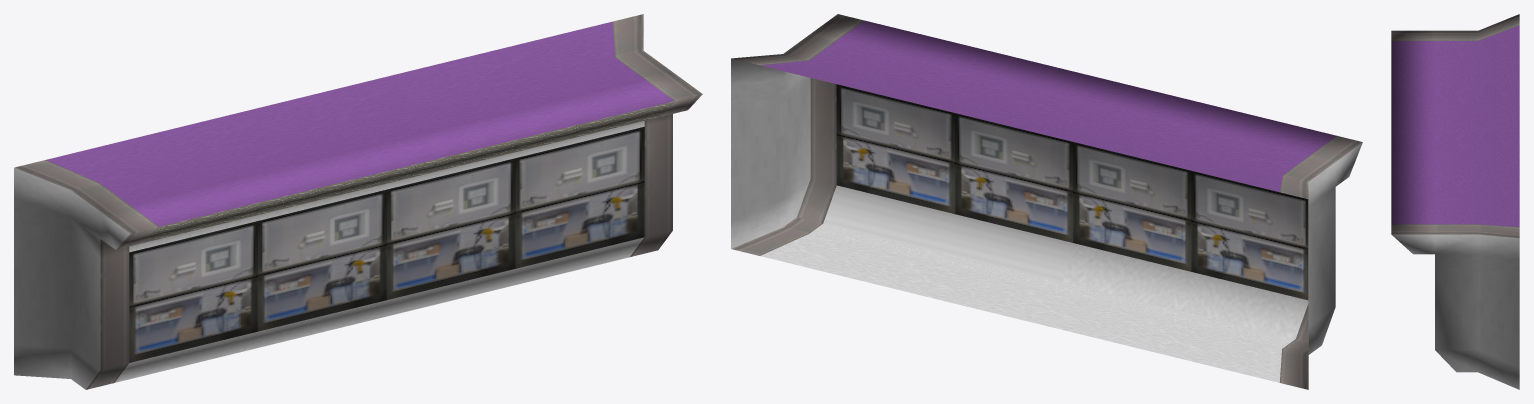
The model's file is HangarWindow.fbx.
3 renders of one model, left to right at view 1: azimuth 30°, elevation 25°; view 2: azimuth 150°, elevation 25°; view 3: azimuth 270°, elevation 25°, orthographic. The views are drawn at different scales.
Parts seen in each view (by area): view 1: WindowCabin; view 2: WindowCabin; view 3: WindowCabin.
Part boxes in pixels (x1=…): WindowCabin: x1=14, y1=14, x2=702, y2=389; WindowCabin: x1=731, y1=14, x2=1362, y2=389; WindowCabin: x1=1391, y1=14, x2=1519, y2=389.
Size of the model in its own units: 2442 by 770 by 590.
